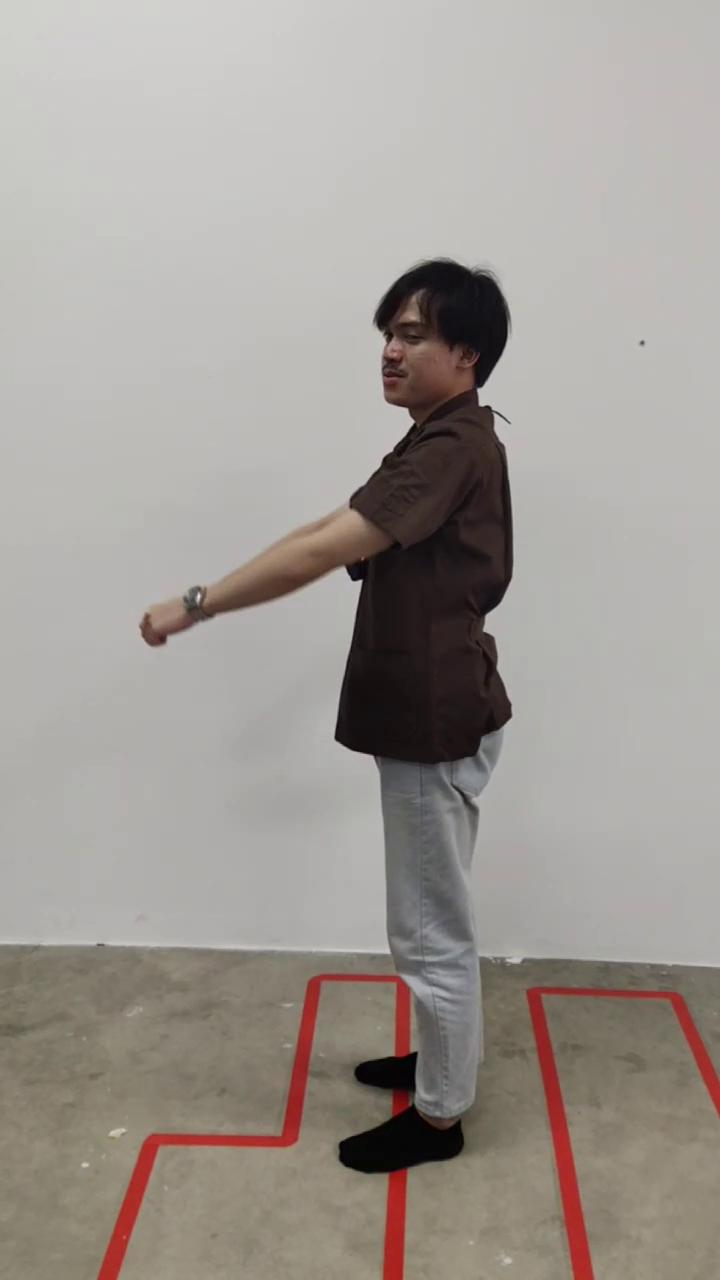squat up: (140, 260, 512, 1172)
